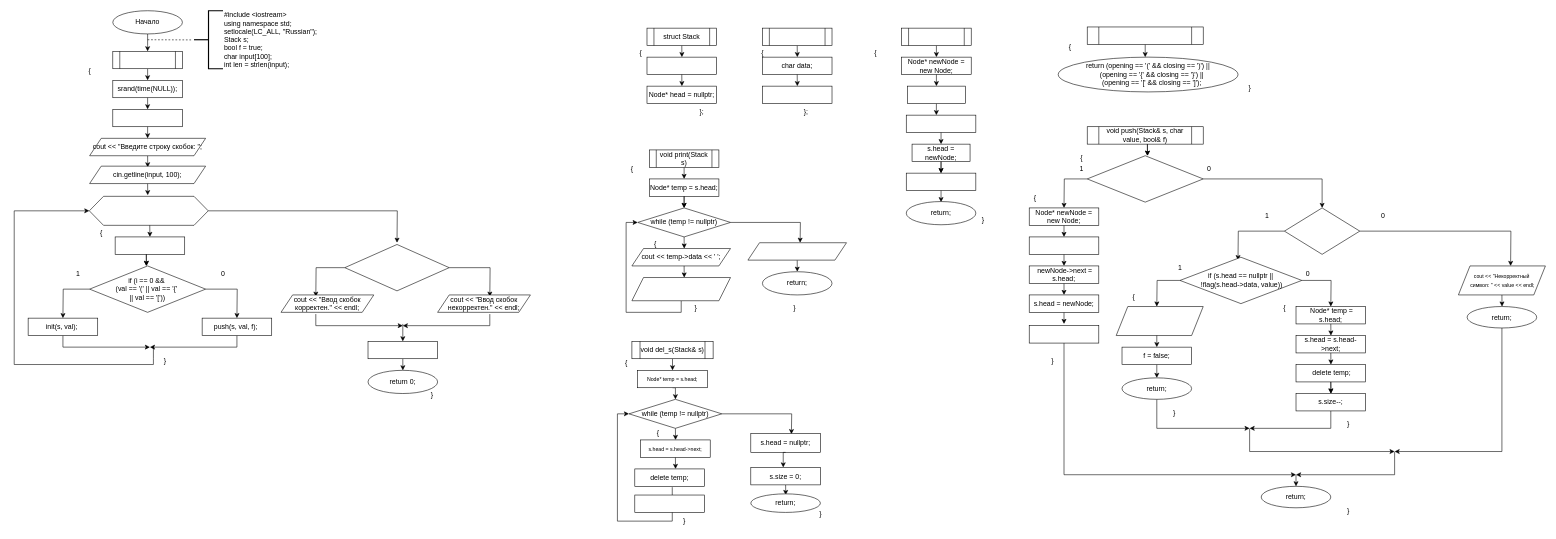
This 1556x539 diagram has some shape labels left out. Here are the shapes that lost their labels. From the top down, the box of each, then its label:
(762, 28, 832, 46): struct Node
(901, 28, 971, 46): void init(Stack& s, char value)
(1087, 26, 1203, 44): bool flag(char opening, char closing)
(112, 51, 182, 69): int main()
(646, 57, 717, 75): int size = 0;
(762, 86, 832, 104): Node* next;
(907, 86, 965, 104): strcpy(newNode->data, value);
(112, 109, 182, 127): setlocale(LC_ALL, "Russian");
(906, 115, 976, 133): newNode->next = nullptr;
(906, 173, 976, 191): s.size = 1;
(1087, 155, 1203, 202): if (value == '(' || value == '{' || value == '[')
(89, 196, 208, 225): for (int i = 0; i < len; i++)
(1284, 207, 1360, 254): if (value == ')' || value == '}' || value == ']')
(115, 236, 185, 254): char val = input[i];
(747, 242, 847, 260): cout << endl;
(1029, 236, 1099, 254): newNode->data = value;
(344, 244, 449, 291): if (s.size == 0 && f == true)
(631, 277, 731, 301): temp = temp->next;
(1029, 325, 1099, 343): s.size++;
(1116, 306, 1203, 336): cout << "Некорректный ввод скобок!" << endl;
(367, 341, 438, 359): del_s(s);
(634, 494, 704, 512): temp = s.head;
